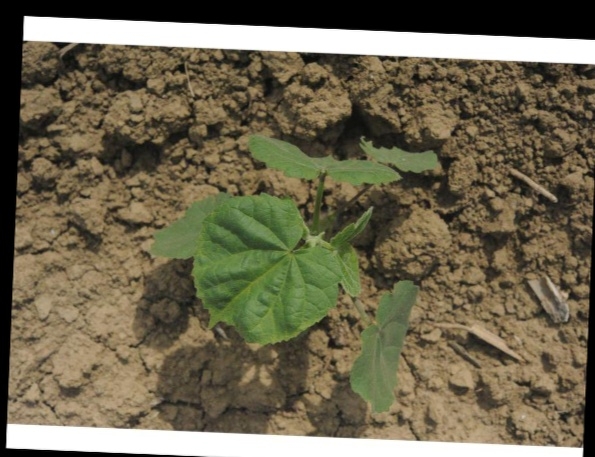velvet: (149, 135, 435, 410)
